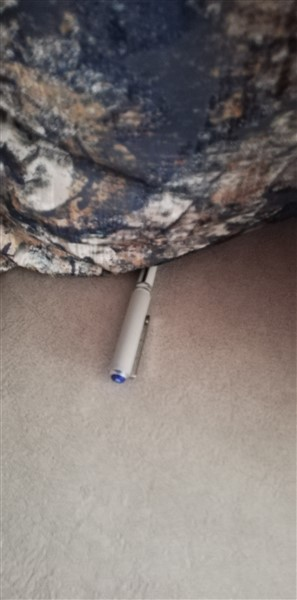pilot kalem: (106, 247, 160, 384)
